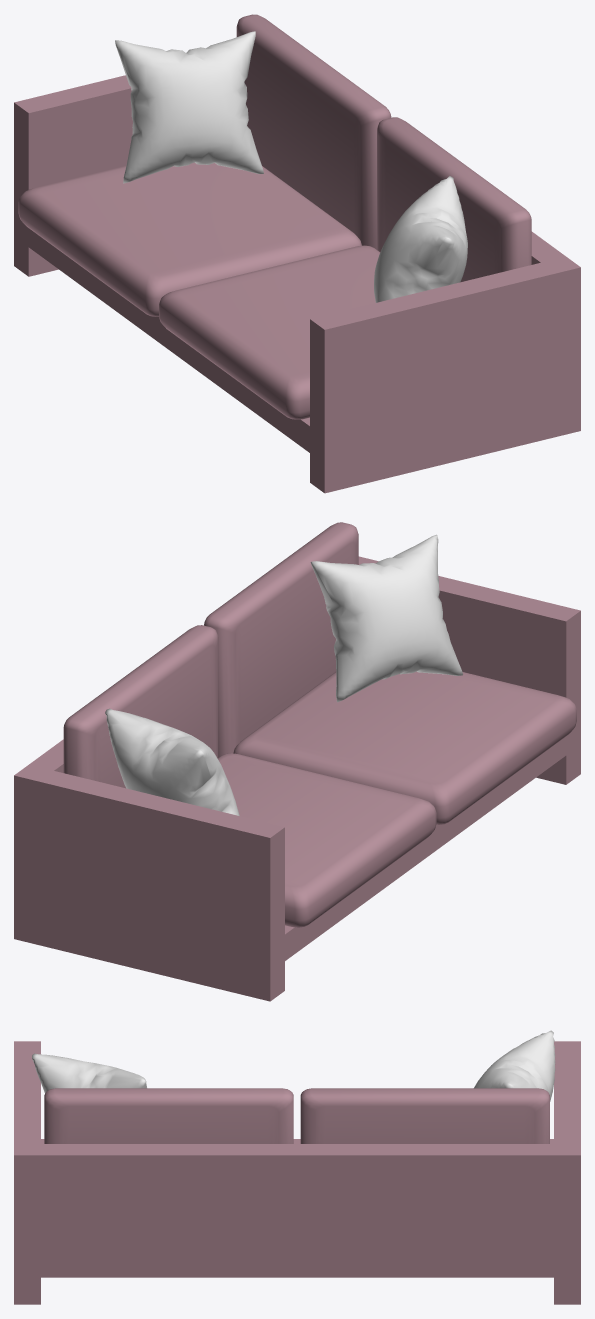
File: Couch.fbx
The picture shows the model from 3 angles, top to bottom: view 1: azimuth 30°, elevation 25°; view 2: azimuth 150°, elevation 25°; view 3: azimuth 270°, elevation 25°; orthographic projection. The views are drawn at different scales.
Visible parts, largest first — view 1: Couch_Base, Couch_Cushion, Couch_Cushion_Back, Cushion; view 2: Couch_Base, Couch_Cushion, Couch_Cushion_Back, Cushion; view 3: Couch_Base, Couch_Cushion_Back, Cushion.
Part boxes in pixels (x1,y1,x2,y2): Couch_Base: [14, 75, 580, 493]; Couch_Cushion: [18, 162, 380, 419]; Couch_Cushion_Back: [236, 14, 531, 282]; Cushion: [115, 31, 467, 302]; Couch_Base: [14, 556, 580, 1001]; Couch_Cushion: [217, 671, 576, 927]; Couch_Cushion_Back: [63, 522, 358, 788]; Cushion: [105, 534, 462, 815]; Couch_Base: [14, 1041, 580, 1304]; Couch_Cushion_Back: [44, 1088, 549, 1143]; Cushion: [32, 1030, 555, 1101].
Size of the model in its own units: 80.58 by 61.28 by 159.
